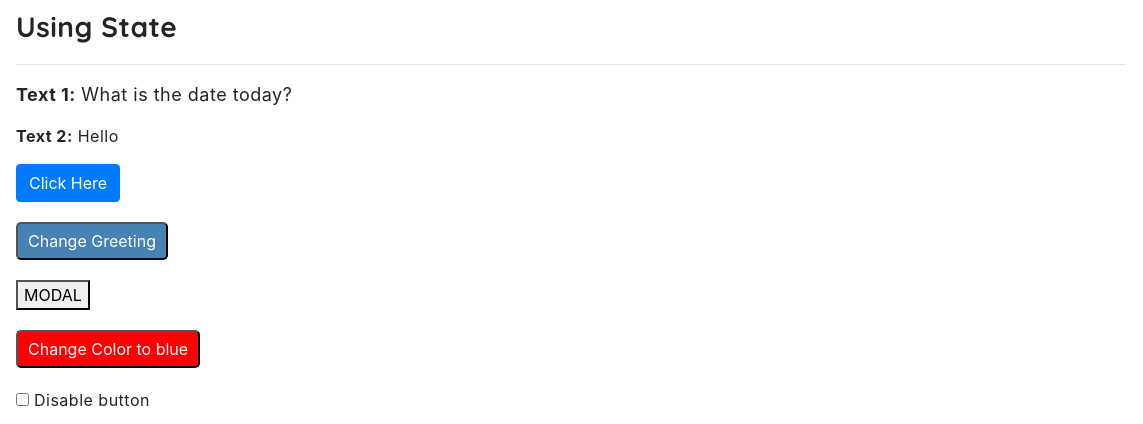
displays date
Find the 'Click Here' button using 'getByText', then click it.
Click the button "Click Here". click: (68, 183)
box: x1=16 y1=164 x2=120 y2=202
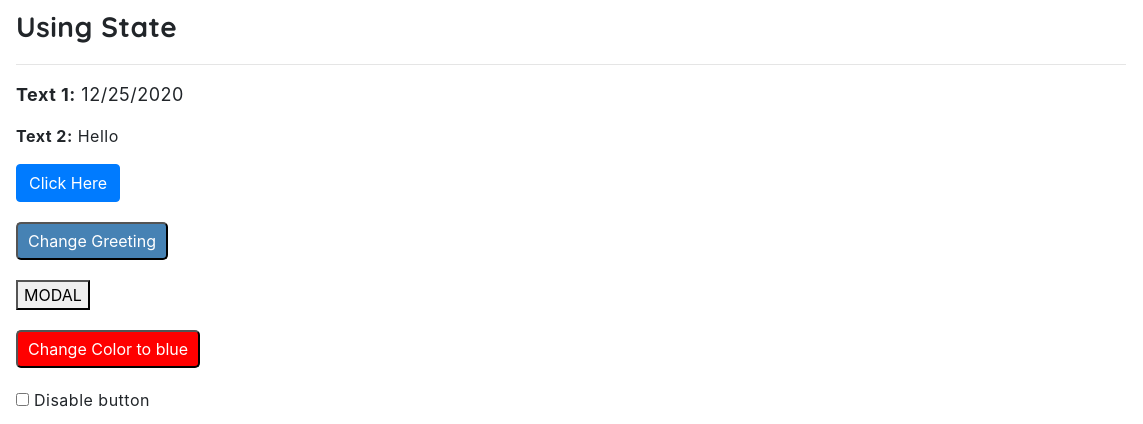
Check: the element with test id "date" shows "12/25/2020", box x1=81 y1=84 x2=184 y2=105
